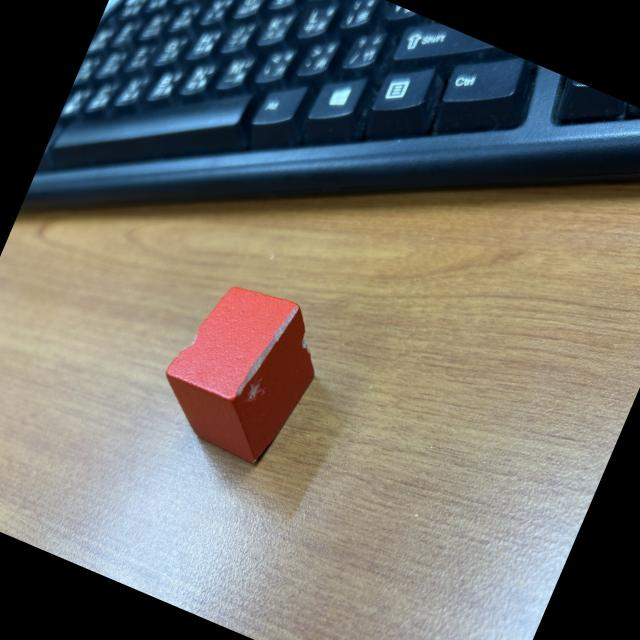broken: (145, 266, 338, 474)
